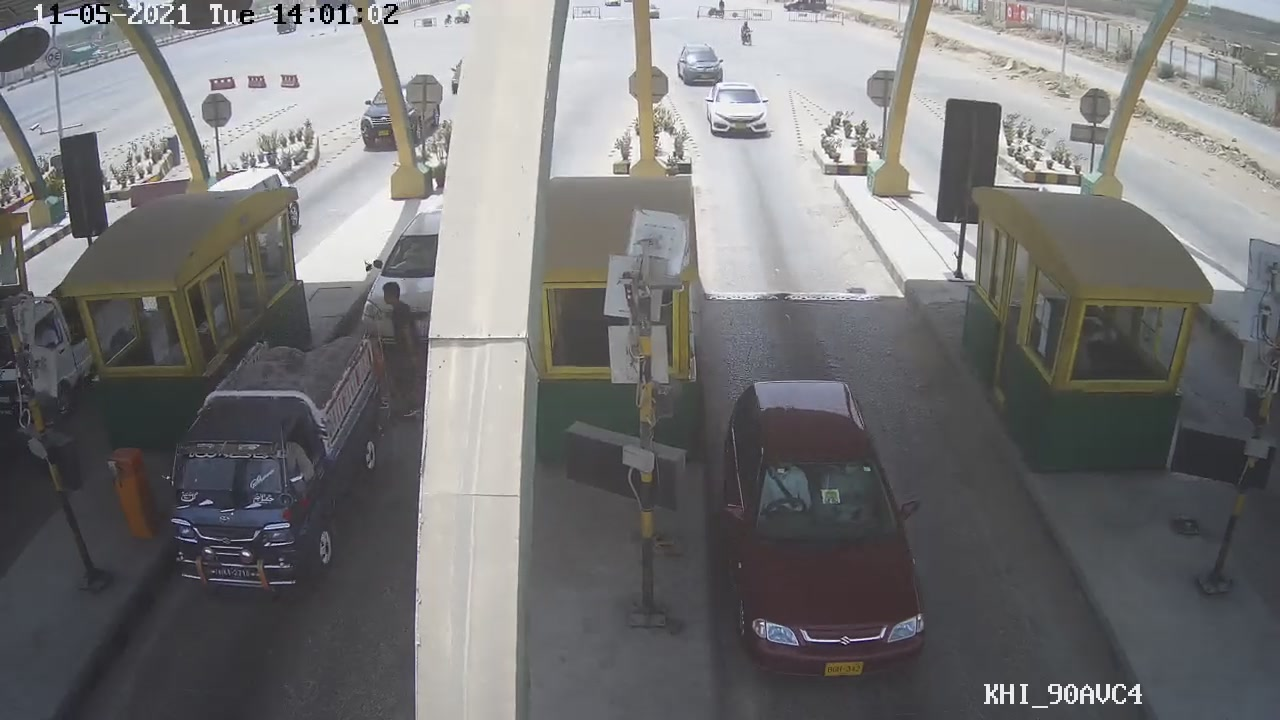F1: (715, 379, 935, 684)
